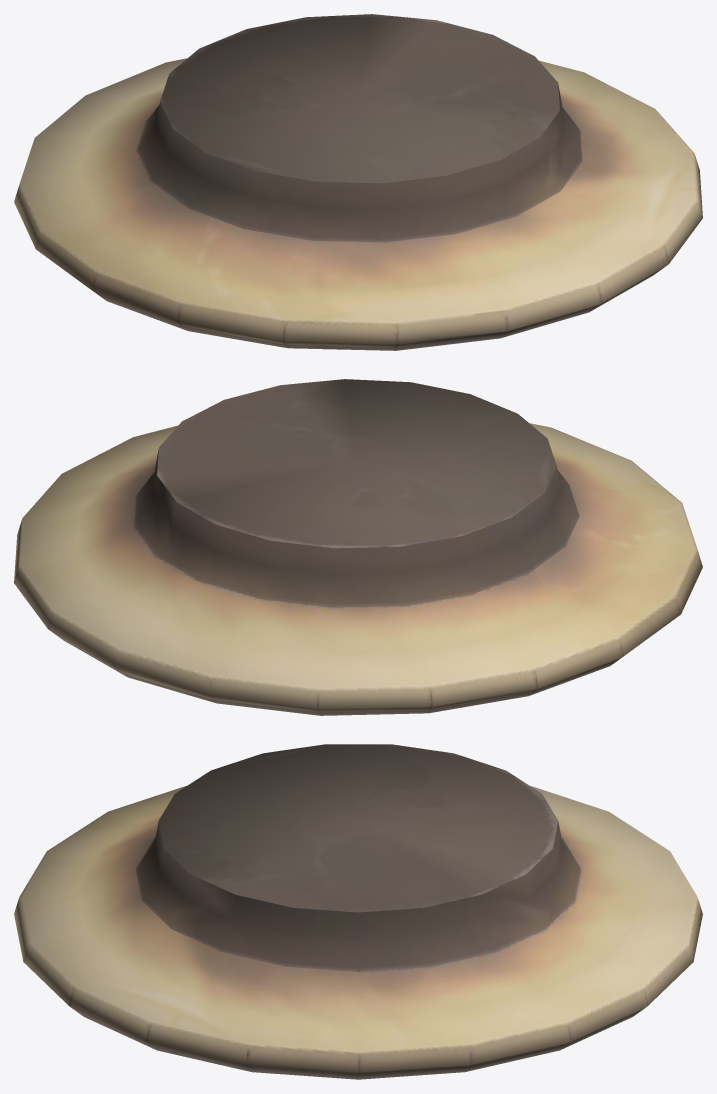
Rendered from DE_Flowerpot_08.fbx.
3 renders of one model, top to bottom at view 1: azimuth 30°, elevation 25°; view 2: azimuth 150°, elevation 25°; view 3: azimuth 270°, elevation 25°, orthographic.
Parts seen in each view (by area): view 1: DE_Flowerpot_08; view 2: DE_Flowerpot_08; view 3: DE_Flowerpot_08.
Boxes of the visible parts, box(x1,y1,x2,y2) form: DE_Flowerpot_08: box(14, 14, 702, 350); DE_Flowerpot_08: box(14, 379, 702, 715); DE_Flowerpot_08: box(14, 744, 702, 1079).
Bounding box in the file's own units: 2.29 × 0.4301 × 2.3.
